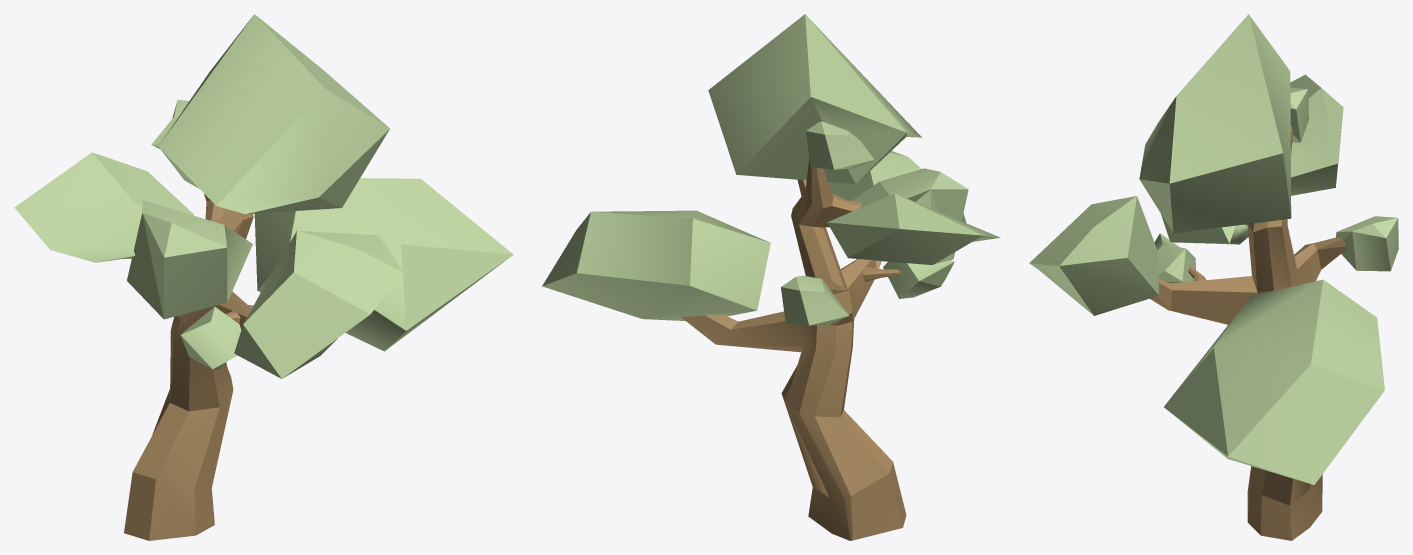
The model's file is albero2.fbx.
3 renders of one model, left to right at view 1: azimuth 30°, elevation 25°; view 2: azimuth 150°, elevation 25°; view 3: azimuth 270°, elevation 25°, orthographic. The views are drawn at different scales.
Parts seen in each view (by area): view 1: Tree_Asian_Shaped_01; view 2: Tree_Asian_Shaped_01; view 3: Tree_Asian_Shaped_01.
Boxes of the visible parts, <box> form: Tree_Asian_Shaped_01: <box>14,14,513,540</box>; Tree_Asian_Shaped_01: <box>542,14,1000,540</box>; Tree_Asian_Shaped_01: <box>1029,14,1398,540</box>.
Bounding box in the file's own units: 427 × 450 × 278.
